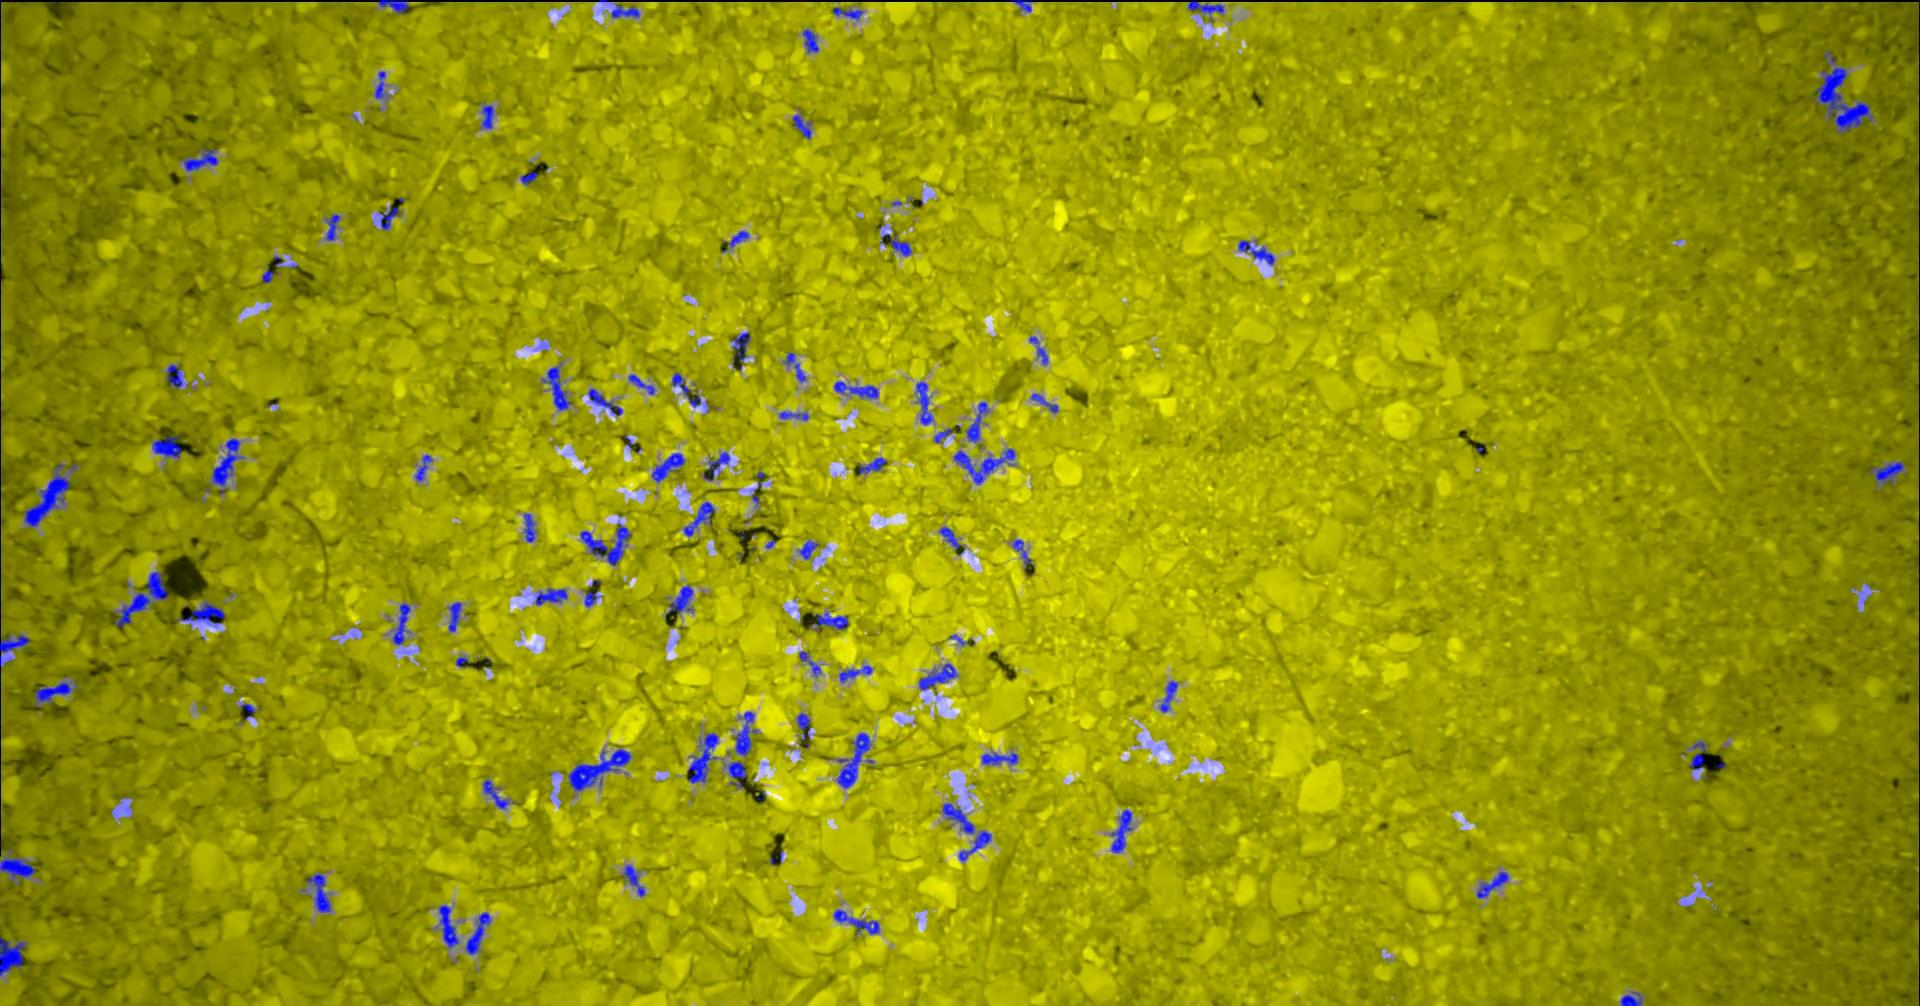ant: (114, 572, 168, 627), (23, 464, 70, 526), (568, 749, 630, 791), (579, 523, 631, 565), (952, 448, 1015, 483), (836, 732, 870, 788), (211, 438, 243, 493), (687, 732, 717, 782), (541, 363, 571, 409), (833, 909, 879, 934), (33, 681, 76, 706), (683, 500, 714, 536), (465, 912, 490, 954), (305, 873, 331, 912), (957, 829, 990, 861), (0, 634, 29, 669), (670, 372, 700, 406), (918, 663, 957, 688), (0, 936, 25, 976), (587, 387, 622, 415), (0, 856, 36, 884), (942, 801, 973, 833), (177, 602, 223, 622), (734, 711, 756, 754), (651, 453, 684, 481), (664, 586, 692, 619), (1237, 240, 1274, 264), (1476, 871, 1509, 898), (966, 401, 988, 442), (1111, 809, 1131, 852), (438, 904, 458, 948), (483, 779, 509, 808), (703, 451, 729, 480), (183, 149, 217, 170), (1869, 461, 1903, 483), (833, 381, 877, 398), (879, 232, 910, 255), (392, 603, 410, 644), (916, 381, 932, 424), (938, 526, 963, 555), (811, 612, 848, 631), (731, 332, 749, 370), (152, 434, 182, 457), (622, 865, 644, 895), (723, 761, 747, 788), (785, 352, 805, 381), (1159, 680, 1177, 713), (535, 587, 566, 605), (1012, 539, 1031, 568), (797, 650, 820, 674), (1029, 337, 1048, 365), (839, 666, 871, 682), (629, 373, 654, 394), (1030, 392, 1057, 412), (414, 453, 432, 480), (166, 365, 187, 387), (1689, 741, 1705, 768), (792, 114, 811, 138), (378, 205, 397, 229), (1187, 0, 1223, 13), (750, 471, 764, 503), (858, 457, 886, 473), (797, 540, 819, 559), (325, 213, 340, 240), (982, 752, 1017, 763), (377, 0, 409, 13), (611, 4, 639, 18), (832, 8, 862, 19), (803, 29, 818, 52), (796, 713, 809, 739), (728, 230, 748, 246), (523, 513, 535, 542), (448, 602, 460, 631), (480, 104, 493, 128), (1620, 991, 1642, 1005), (375, 71, 385, 98), (778, 412, 808, 420), (933, 428, 951, 442), (1010, 0, 1031, 11), (521, 171, 537, 184), (584, 589, 597, 606), (262, 269, 273, 282), (455, 655, 469, 666)
